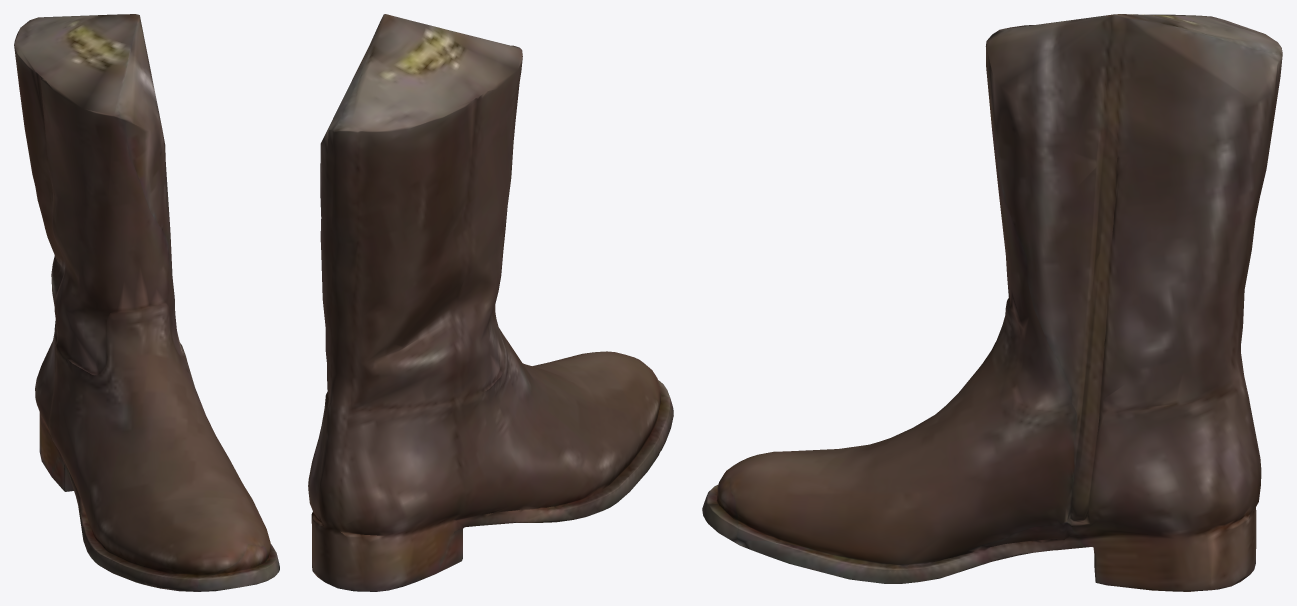
File: Tory_Burch_Kiernan_Riding_Boot-high.glb
3 views of the same model, side by side, from view 1: azimuth 30°, elevation 25°; view 2: azimuth 150°, elevation 25°; view 3: azimuth 270°, elevation 25° (orthographic). The views are drawn at different scales.
Visible parts, largest first — view 1: Tory_Burch_Kiernan_Riding_Boot; view 2: Tory_Burch_Kiernan_Riding_Boot; view 3: Tory_Burch_Kiernan_Riding_Boot.
Part boxes in pixels (<box>): Tory_Burch_Kiernan_Riding_Boot: <box>14,14,279,591</box>; Tory_Burch_Kiernan_Riding_Boot: <box>308,14,673,591</box>; Tory_Burch_Kiernan_Riding_Boot: <box>702,14,1282,591</box>.
Size of the model in its own units: 0.1021 by 0.296 by 0.2752.
1 material, 1 textured.
